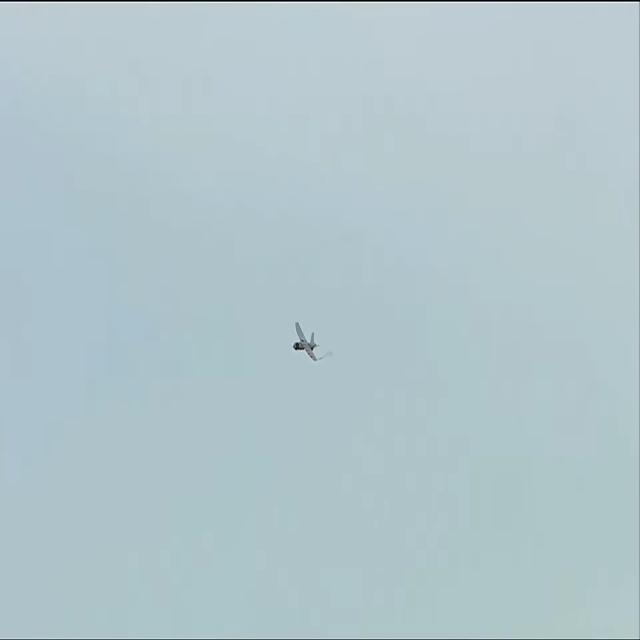iha: (292, 323, 319, 362)
